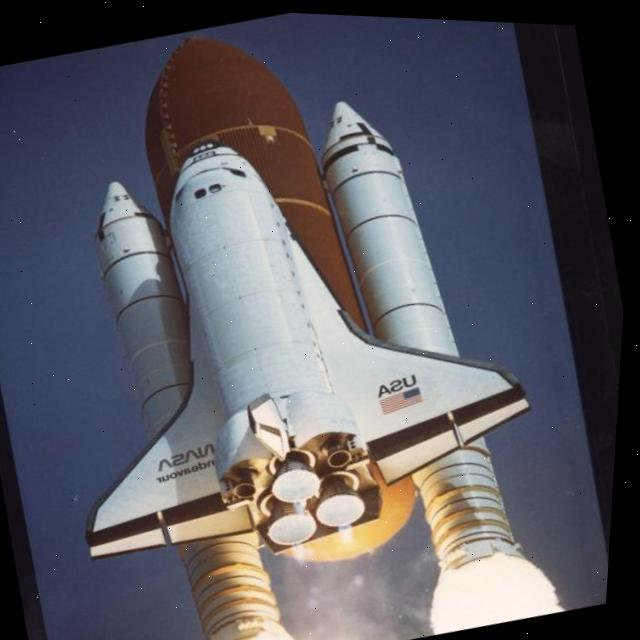missile: (0, 0, 601, 640)
